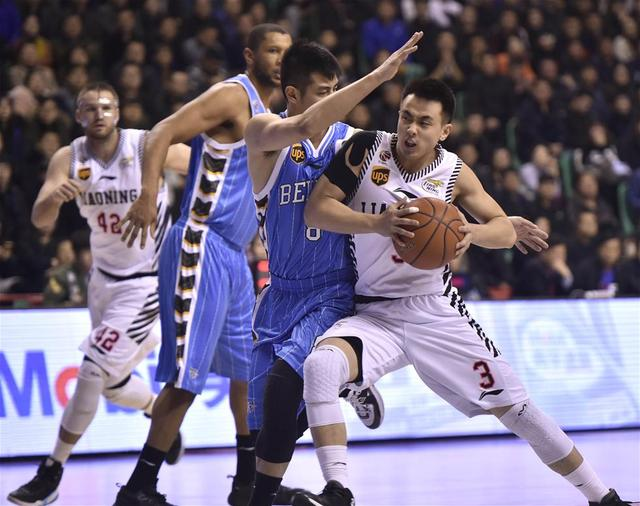ball: (391, 197, 465, 269)
